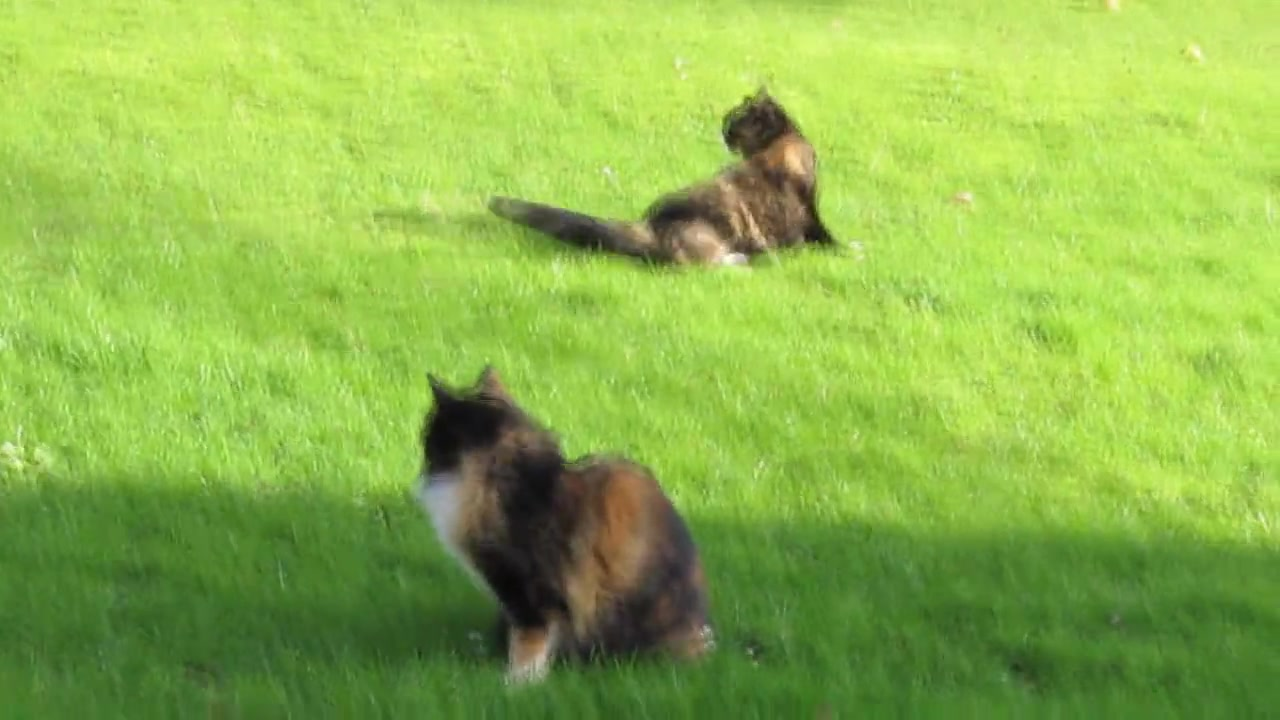cat: (418, 364, 719, 691)
